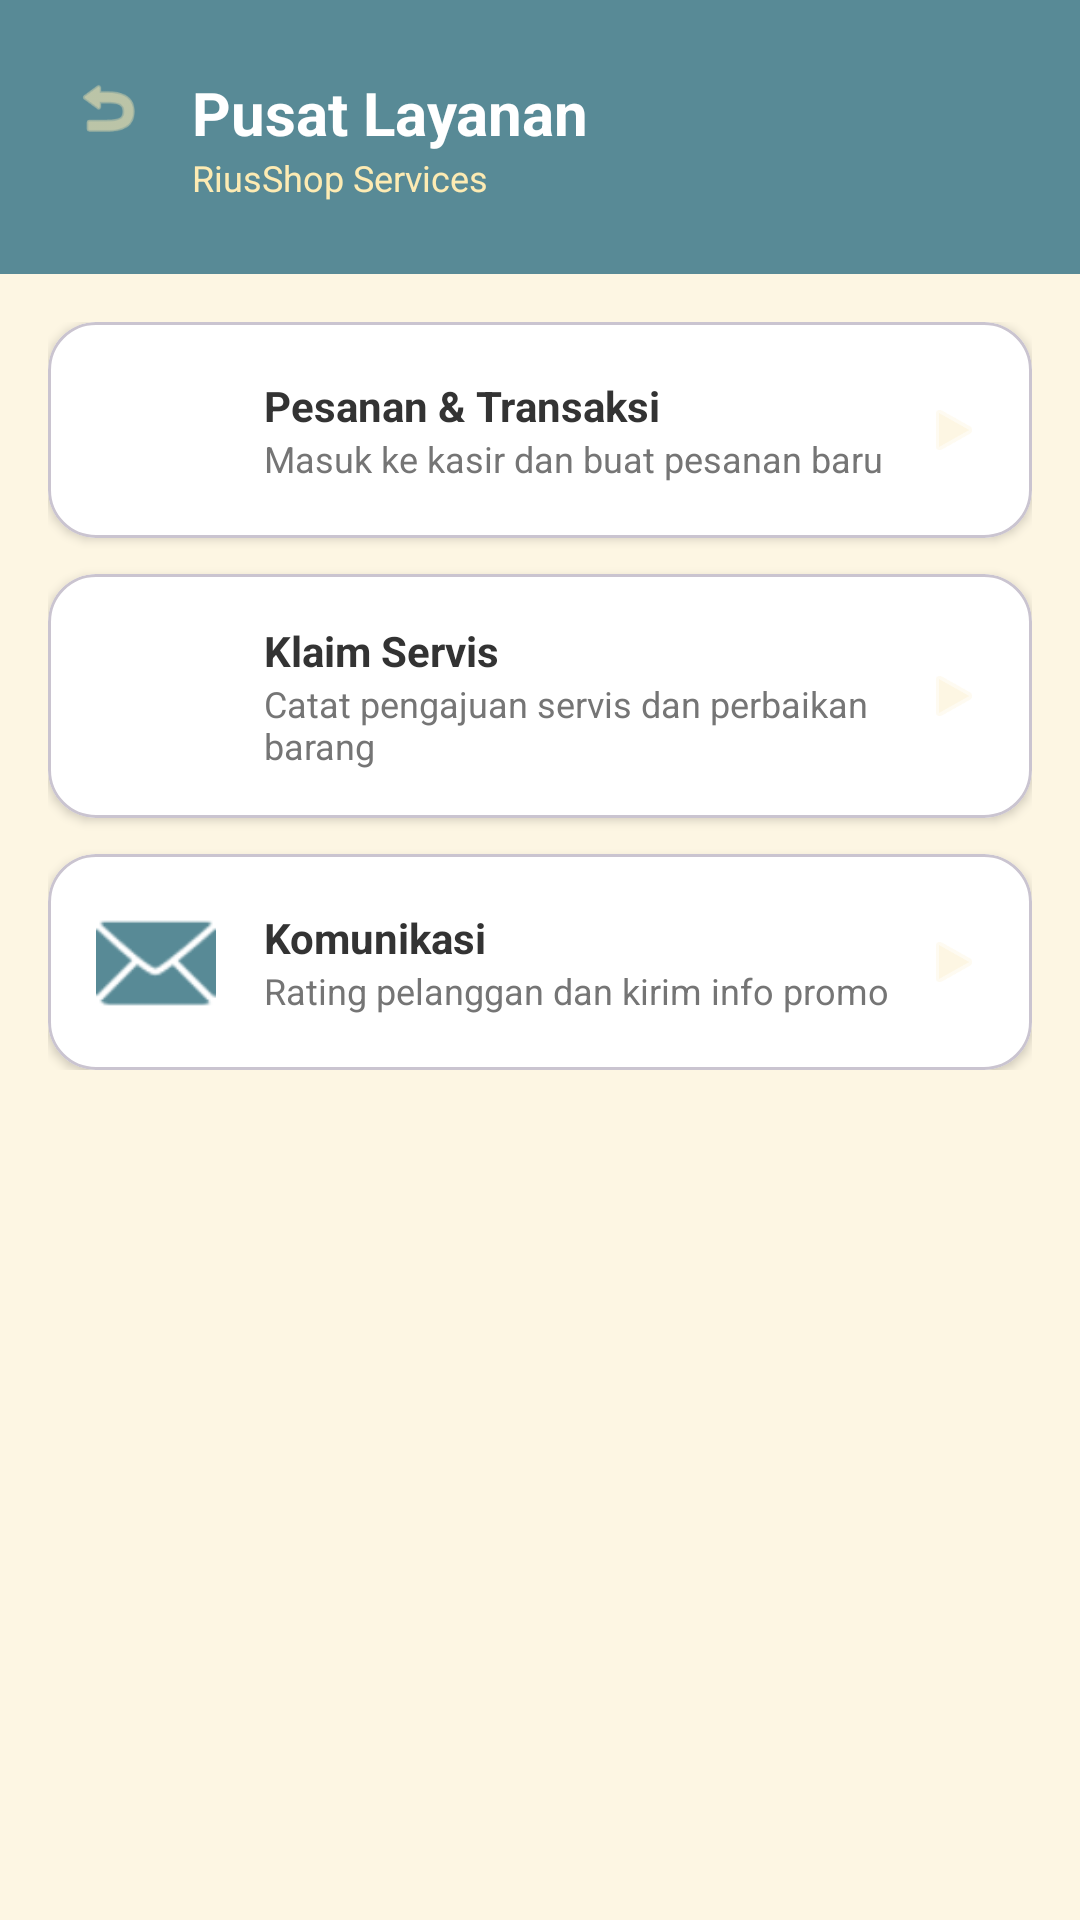

Icon click points for this 1080px x 1920px phone screenshot, format point (x, y):
email: point (156, 963)
play: point (953, 429), point (953, 695), point (953, 961)
revert: point (109, 108)
